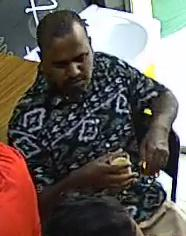no_apron: (21, 37, 170, 219)
